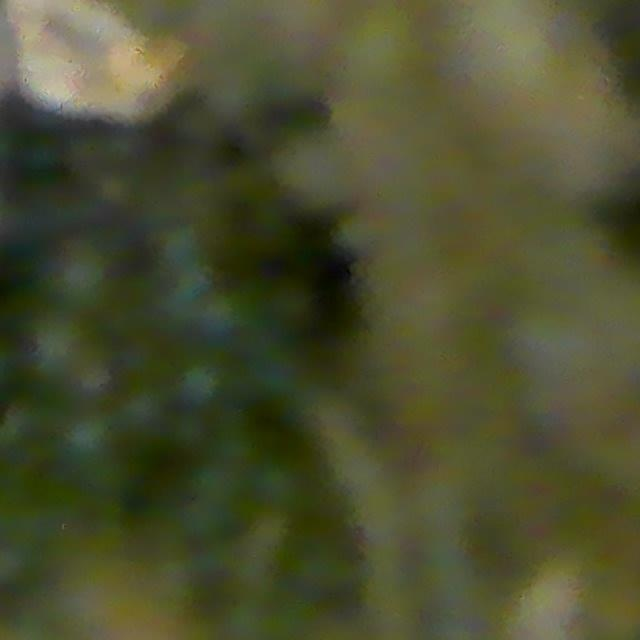SeaGrape: (46, 239, 115, 315), (28, 312, 90, 382), (58, 408, 119, 470), (112, 381, 172, 443), (174, 359, 224, 409)
